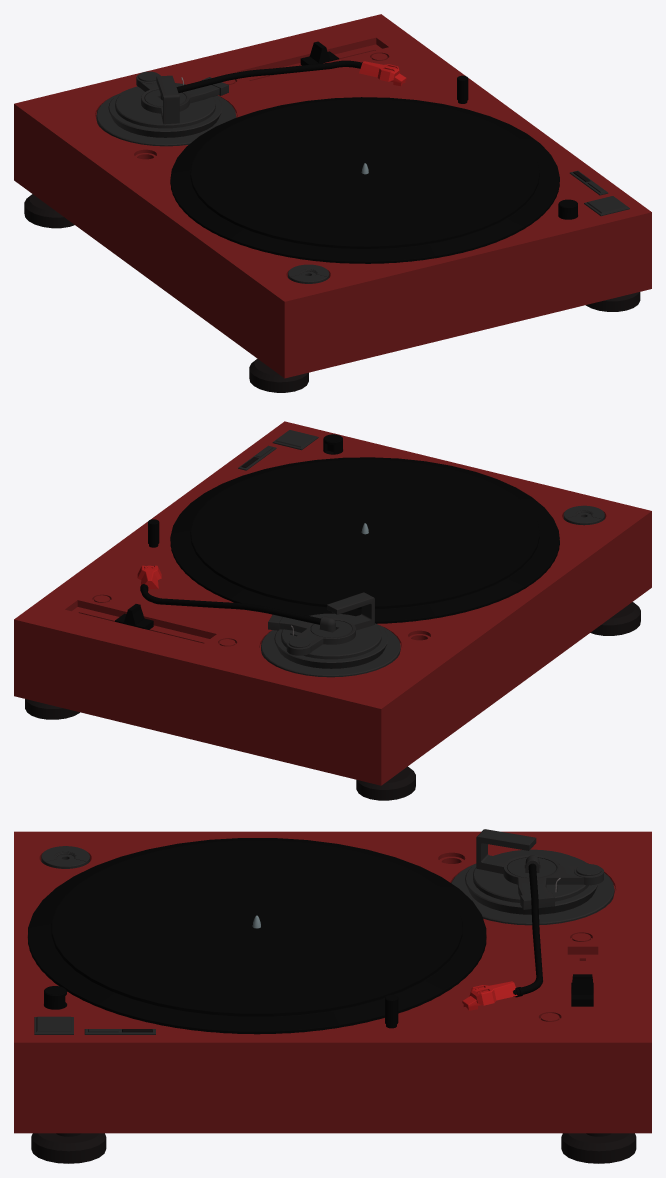
3 renders of one model, top to bottom at view 1: azimuth 30°, elevation 25°; view 2: azimuth 150°, elevation 25°; view 3: azimuth 270°, elevation 25°, orthographic. The views are drawn at different scales.
Parts seen in each view (by area): view 1: frameMesh, platterMesh, armBase2Mesh, armBase3Mesh, armBaseMesh, armMesh, upLeftMesh, pCylinder34_noska_0, needleMesh, pCylinder13, bottomleftMesh, powerButtonMesh; view 2: frameMesh, platterMesh, armBase2Mesh, armBase3Mesh, armBaseMesh, armMesh, pCylinder34_noska_0, upLeftMesh, bottomRightMesh, pCylinder13, powerButtonMesh; view 3: frameMesh, platterMesh, armBase2Mesh, armBase3Mesh, armBaseMesh, bottomleftMesh, bottomRightMesh, armMesh, pCylinder13, needleMesh, powerButtonMesh, pitchControlMesh (+2 smaller).
Part boxes in pixels (left/top/right/bottom): frameMesh: left=14, top=14, right=651, bottom=378; platterMesh: left=170, top=97, right=559, bottom=263; armBase2Mesh: left=108, top=83, right=222, bottom=137; armBase3Mesh: left=139, top=75, right=228, bottom=124; armBaseMesh: left=96, top=94, right=236, bottom=146; armMesh: left=176, top=60, right=362, bottom=92; upLeftMesh: left=249, top=359, right=308, bottom=392; pCylinder34_noska_0: left=24, top=194, right=74, bottom=228; needleMesh: left=359, top=61, right=406, bottom=86; pCylinder13: left=288, top=264, right=329, bottom=283; bottomleftMesh: left=586, top=292, right=640, bottom=311; powerButtonMesh: left=584, top=196, right=629, bottom=216; frameMesh: left=14, top=421, right=651, bottom=785; platterMesh: left=170, top=457, right=559, bottom=623; armBase2Mesh: left=274, top=613, right=388, bottom=668; armBase3Mesh: left=268, top=592, right=374, bottom=651; armBaseMesh: left=261, top=625, right=400, bottom=677; armMesh: left=140, top=584, right=320, bottom=624; pCylinder34_noska_0: left=356, top=766, right=415, bottom=800; upLeftMesh: left=590, top=602, right=640, bottom=635; bottomRightMesh: left=25, top=699, right=79, bottom=719; pCylinder13: left=563, top=505, right=604, bottom=525; powerButtonMesh: left=272, top=430, right=318, bottom=450; frameMesh: left=14, top=831, right=651, bottom=1133; platterMesh: left=28, top=838, right=486, bottom=1034; armBase2Mesh: left=465, top=849, right=598, bottom=914; armBase3Mesh: left=476, top=829, right=585, bottom=909; armBaseMesh: left=451, top=863, right=614, bottom=925; bottomleftMesh: left=31, top=1133, right=106, bottom=1163; bottomRightMesh: left=561, top=1133, right=636, bottom=1163; armMesh: left=513, top=863, right=542, bottom=997; pCylinder13: left=41, top=846, right=89, bottom=868; needleMesh: left=462, top=981, right=517, bottom=1010; powerButtonMesh: left=34, top=1016, right=73, bottom=1034; pitchControlMesh: left=571, top=974, right=593, bottom=1006.
Size of the model in its own units: 1.59 by 0.5579 by 1.96.
